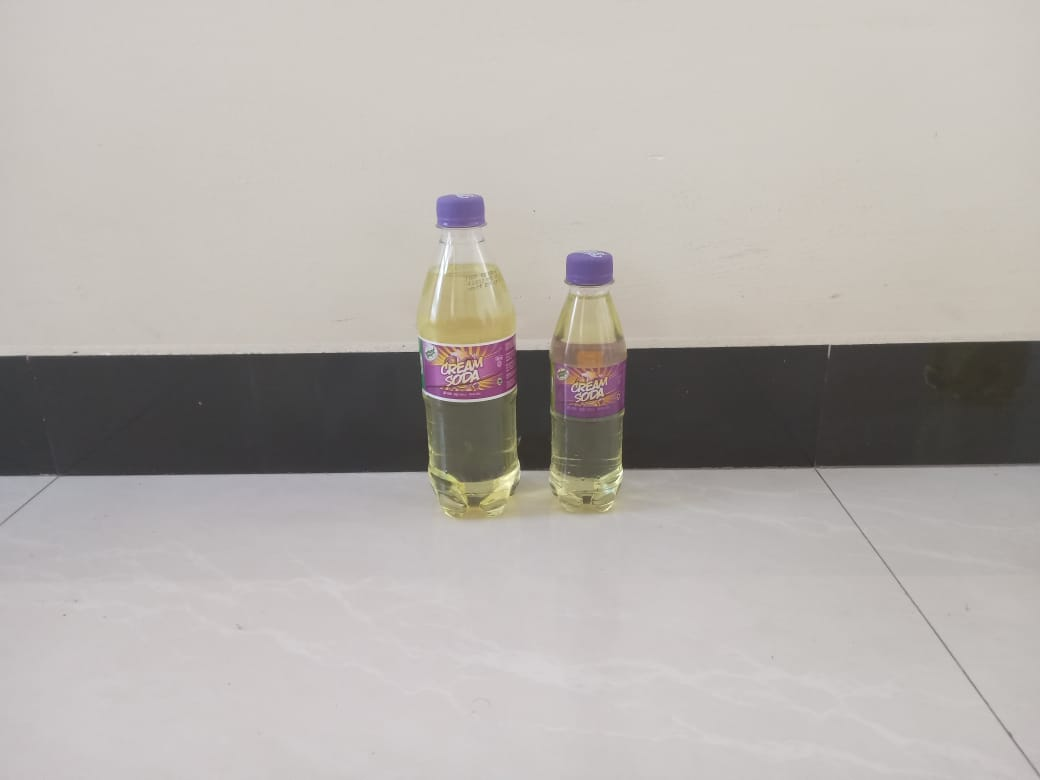S: (413, 192, 525, 520)
Xs: (543, 251, 627, 515)
